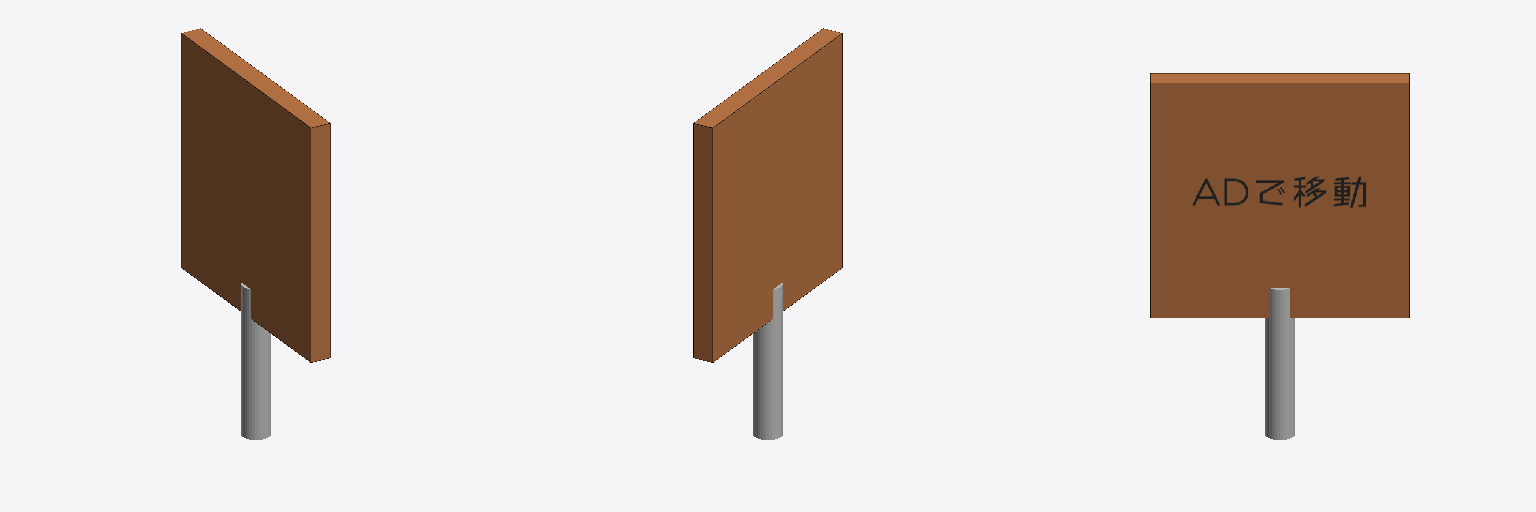
3 renders of one model, left to right at view 1: azimuth 30°, elevation 25°; view 2: azimuth 150°, elevation 25°; view 3: azimuth 270°, elevation 25°, orthographic.
Visible parts, largest first — view 1: Cube; view 2: Cube; view 3: Cube.
Part boxes in pixels (x1,y1,x2,y2): Cube: (181, 28, 330, 439); Cube: (693, 28, 842, 439); Cube: (1150, 73, 1409, 439).
Size of the model in its own units: 0.2325 by 3.03 by 2.
Materials: 2 (1 with a texture image).